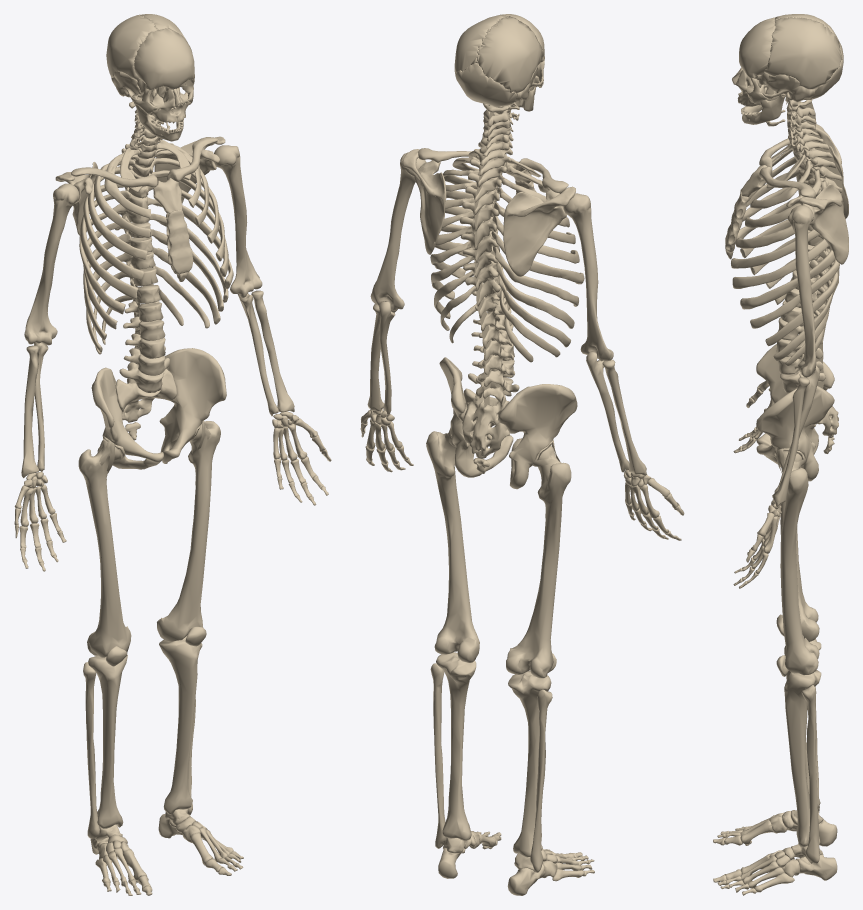
Rendered from skeleton-rig.glb.
3 views of the same model, side by side, from view 1: azimuth 30°, elevation 25°; view 2: azimuth 150°, elevation 25°; view 3: azimuth 270°, elevation 25° (orthographic). The views are drawn at different scales.
Visible parts, largest first — view 1: MESH_root, MESH_chest, MESH_head, MESH_upperarm.R, MESH_upperarm.L, MESH_forearm.L, MESH_hand.L, MESH_hand.R, MESH_forearm.R, MESH_neck; view 2: MESH_root, MESH_chest, MESH_head, MESH_upperarm.R, MESH_upperarm.L, MESH_forearm.R, MESH_forearm.L, MESH_neck, MESH_hand.R, MESH_hand.L; view 3: MESH_root, MESH_chest, MESH_head, MESH_upperarm.L, MESH_forearm.L, MESH_neck, MESH_hand.L, MESH_hand.R.
Boxes of the visible parts, <box> form: MESH_root: <box>24,129,298,895</box>; MESH_chest: <box>55,136,233,354</box>; MESH_head: <box>106,14,194,141</box>; MESH_upperarm.R: <box>24,183,79,345</box>; MESH_upperarm.L: <box>214,145,262,297</box>; MESH_forearm.L: <box>237,290,294,416</box>; MESH_hand.L: <box>273,411,331,505</box>; MESH_hand.R: <box>14,472,66,571</box>; MESH_forearm.R: <box>21,342,48,478</box>; MESH_neck: <box>129,97,170,152</box>; MESH_root: <box>370,112,651,895</box>; MESH_chest: <box>402,148,584,362</box>; MESH_head: <box>454,14,544,111</box>; MESH_upperarm.R: <box>563,193,613,361</box>; MESH_upperarm.L: <box>370,152,426,312</box>; MESH_forearm.R: <box>586,351,646,475</box>; MESH_forearm.L: <box>367,301,395,414</box>; MESH_neck: <box>478,102,519,166</box>; MESH_hand.R: <box>625,470,684,540</box>; MESH_hand.L: <box>360,409,413,472</box>; MESH_root: <box>713,101,842,895</box>; MESH_chest: <box>725,124,848,365</box>; MESH_head: <box>732,14,843,124</box>; MESH_upperarm.L: <box>787,205,816,377</box>; MESH_forearm.L: <box>772,365,819,507</box>; MESH_neck: <box>766,98,829,152</box>; MESH_hand.L: <box>733,499,781,588</box>; MESH_hand.R: <box>733,381,773,453</box>.
Size of the model in its own units: 0.6694 by 1.7 by 0.2474.
